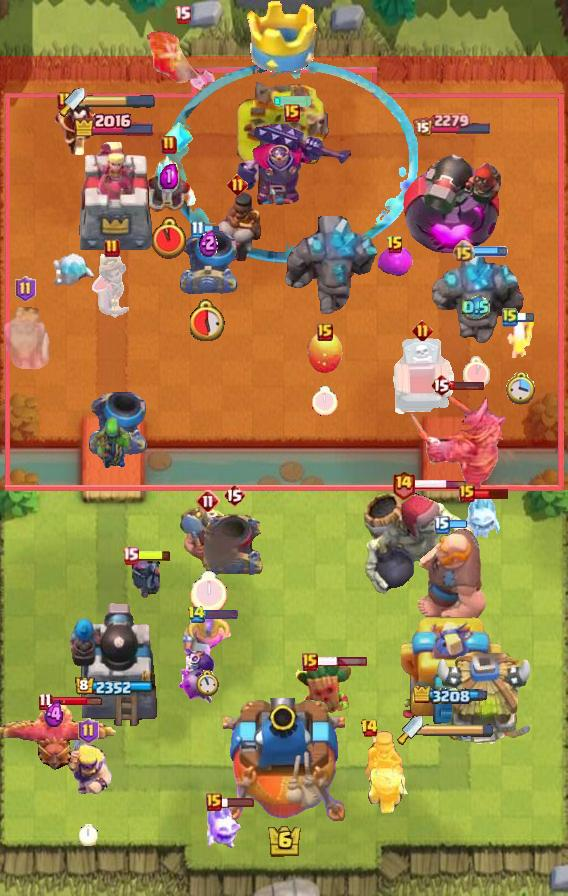bar: (413, 479, 467, 490), (50, 696, 103, 707), (316, 656, 368, 667), (473, 487, 510, 500), (136, 549, 172, 562), (219, 796, 255, 808), (203, 609, 239, 620), (472, 246, 508, 257), (450, 380, 485, 391), (202, 223, 220, 235), (448, 519, 467, 530), (516, 312, 535, 323)
bar-level: (391, 469, 416, 500), (196, 489, 220, 513), (78, 718, 99, 744), (15, 276, 36, 302), (452, 240, 475, 263), (223, 483, 245, 507), (430, 373, 452, 397), (412, 320, 433, 341), (227, 174, 248, 195), (360, 718, 379, 738), (187, 605, 206, 624), (386, 235, 404, 255), (122, 546, 139, 565), (174, 5, 191, 24), (502, 307, 518, 327), (104, 238, 120, 258), (161, 135, 177, 155), (57, 91, 73, 111), (206, 793, 222, 811), (302, 653, 318, 671), (434, 516, 450, 534), (459, 484, 475, 502), (317, 323, 333, 341), (284, 104, 300, 122), (38, 692, 53, 711), (190, 220, 205, 239)
barbarian-evolution: (64, 739, 113, 796)
bomber-evolution: (177, 648, 217, 706)
cannoneer-tower: (69, 599, 159, 731), (403, 138, 503, 256)
clock: (190, 571, 227, 614), (190, 299, 226, 341), (152, 217, 186, 259), (506, 372, 536, 406), (463, 356, 490, 389), (312, 386, 338, 416), (196, 670, 219, 697), (79, 824, 98, 846)
dagger-duchess-tower: (401, 611, 505, 731), (73, 140, 155, 256)
dagger-duchess-tower-bar: (423, 723, 495, 737), (85, 95, 155, 109)
dart-goblin: (295, 658, 353, 722)
electro-wizard: (51, 101, 103, 155)
elite-barbarian: (183, 612, 232, 655)
elixir: (462, 295, 490, 320), (44, 700, 65, 729), (199, 228, 218, 257), (160, 164, 178, 189)
elixir-golem-small: (377, 248, 413, 278)
ice-spirit: (460, 495, 502, 539), (50, 252, 96, 287)
ice-spirit-evolution: (204, 799, 244, 851)
ice-spirit-evolution-symbol: (165, 120, 193, 154)
ice-wizard: (138, 153, 200, 217)
king-tower: (223, 698, 345, 826)
little-prince: (90, 254, 134, 322)
miner: (177, 502, 239, 576)
mini-pekka: (129, 552, 162, 599)
mortar: (203, 511, 265, 579), (87, 391, 147, 455), (178, 230, 238, 294)
phoenix-egg: (305, 331, 345, 375)
ram-rider: (362, 730, 408, 814), (211, 189, 263, 263)
royal-ghost: (0, 304, 54, 370)
skeleton: (506, 315, 536, 361)
spear-goblin: (92, 414, 132, 472)
tower-bar: (73, 110, 156, 136), (413, 112, 493, 136), (413, 686, 493, 707), (75, 677, 153, 697)
valkyrie: (146, 28, 218, 96)
